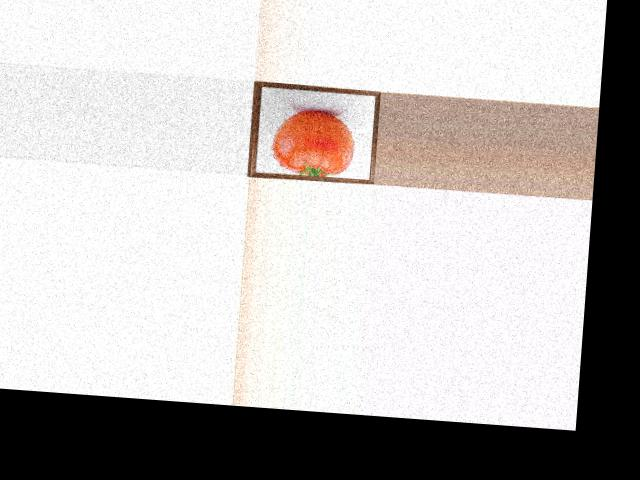tomato: (270, 107, 356, 179)
